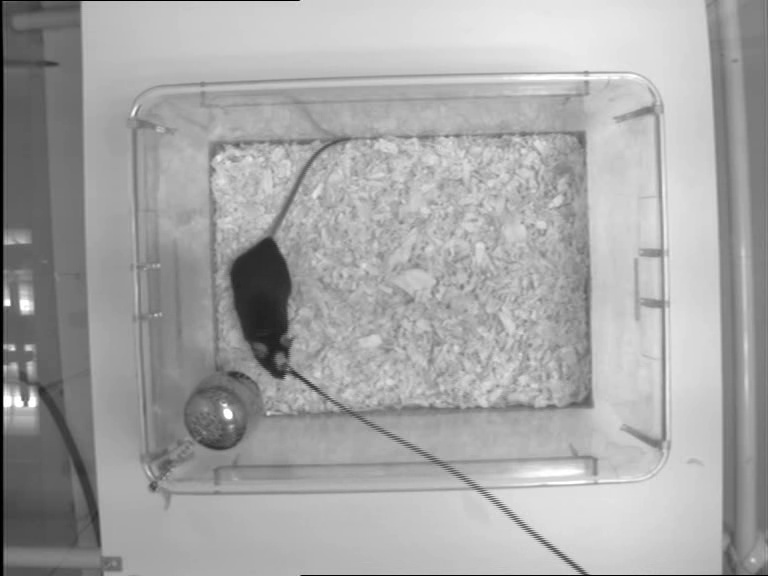mice: (229, 136, 354, 381)
